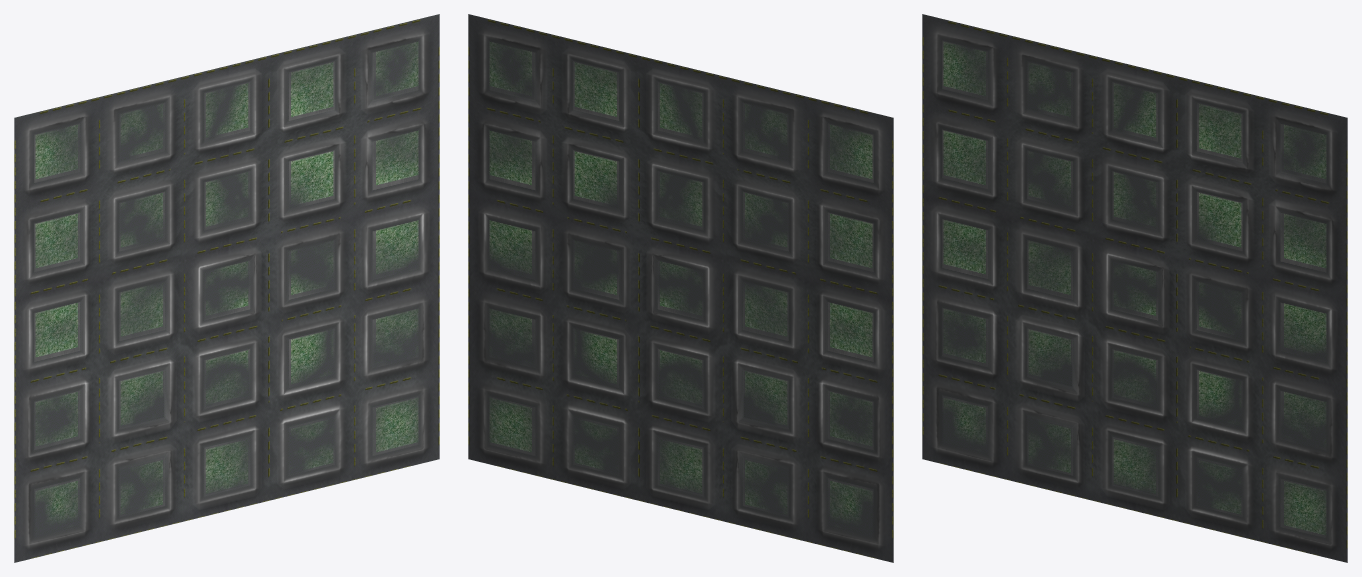
Rendered from streetdefault384_wtf.obj.
3 views of the same model, side by side, from view 1: azimuth 30°, elevation 25°; view 2: azimuth 150°, elevation 25°; view 3: azimuth 330°, elevation 25° (orthographic).
Parts seen in each view (by area): view 1: group2; view 2: group2; view 3: group2.
Part boxes in pixels (x1,y1,x2,y2): group2: (14, 14, 439, 562); group2: (468, 14, 893, 562); group2: (922, 14, 1347, 562).
Bounding box in the file's own units: 660 × 660 × 0.1032.
